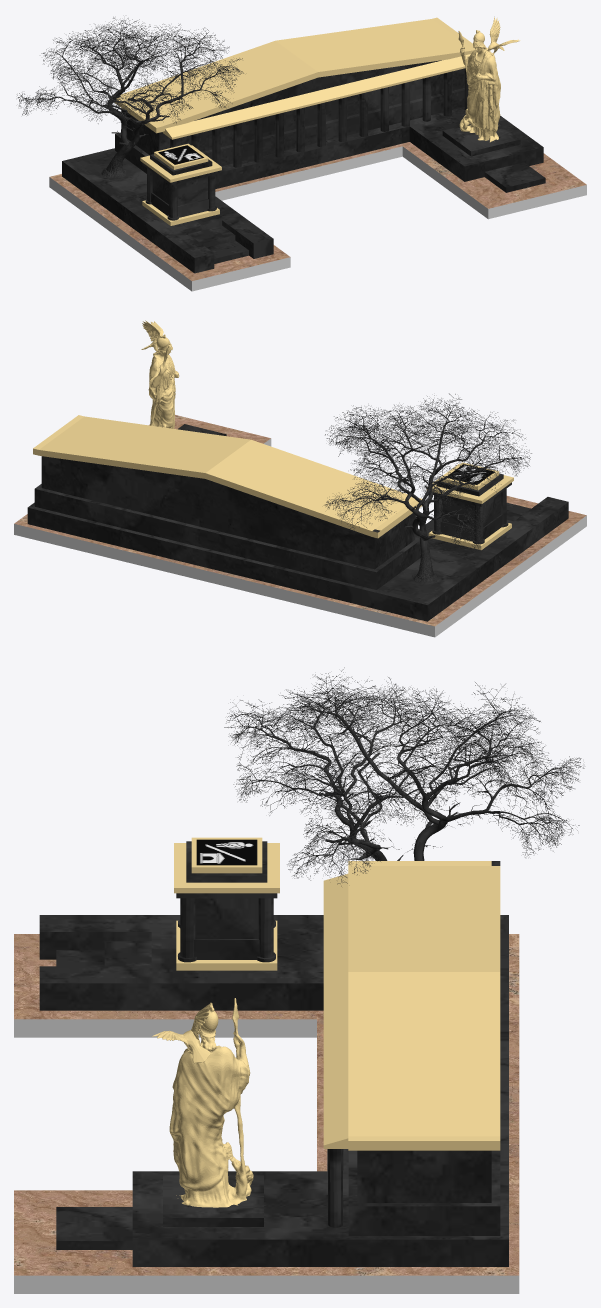
Rendered from buildingTemploMinerva.glb.
3 views of the same model, one above another, from view 1: azimuth 30°, elevation 25°; view 2: azimuth 150°, elevation 25°; view 3: azimuth 270°, elevation 25° (orthographic). The views are drawn at different scales.
Parts seen in each view (by area): view 1: TemploMinerva; view 2: TemploMinerva; view 3: TemploMinerva.
Boxes of the visible parts, x1,y1,x2,y2 form: TemploMinerva: [17, 17, 586, 291]; TemploMinerva: [14, 320, 586, 637]; TemploMinerva: [14, 667, 584, 1293].
Size of the model in its own units: 8.81 by 3.38 by 5.67.
5 materials, 3 textured.
